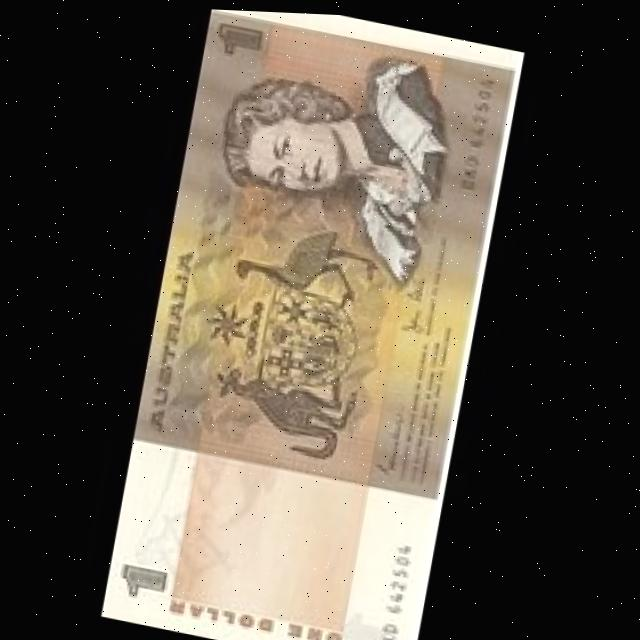banknote: (101, 4, 522, 640)
